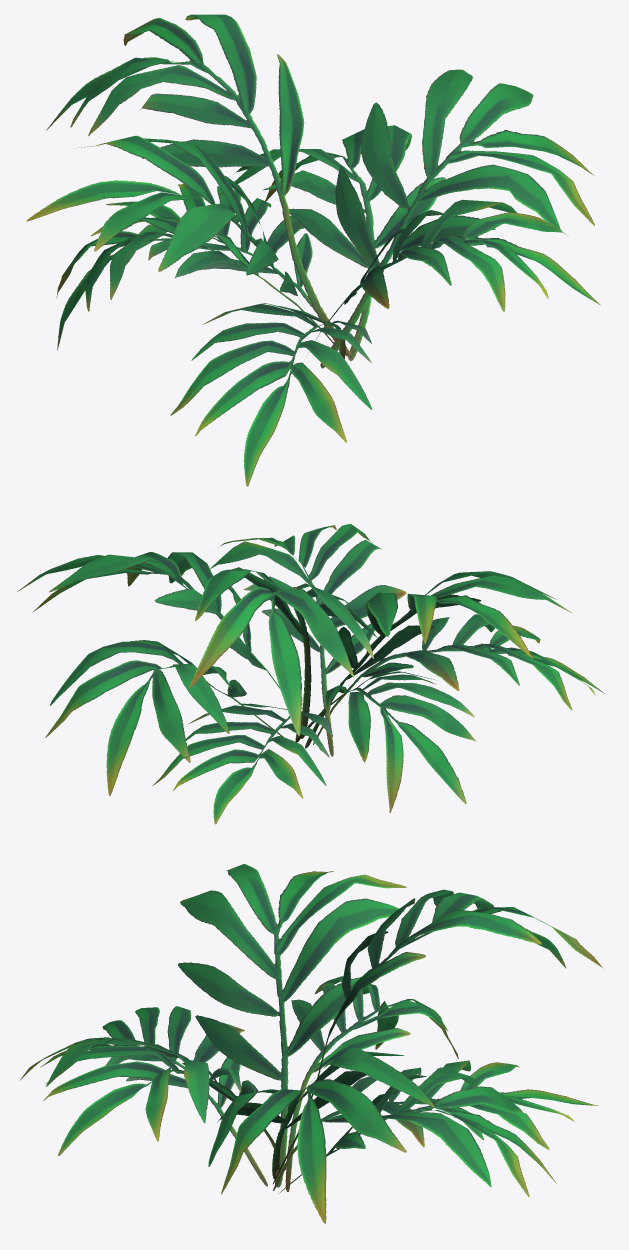
File: planta_praia.glb
The picture shows the model from 3 angles, top to bottom: view 1: azimuth 30°, elevation 25°; view 2: azimuth 150°, elevation 25°; view 3: azimuth 270°, elevation 25°; orthographic projection. The views are drawn at different scales.
Parts seen in each view (by area): view 1: planta_praia; view 2: planta_praia; view 3: planta_praia.
Part boxes in pixels (x1=…): planta_praia: x1=26, y1=14, x2=600, y2=486; planta_praia: x1=17, y1=524, x2=604, y2=824; planta_praia: x1=20, y1=864, x2=603, y2=1223.
Bounding box in the file's own units: 21.62 × 10 × 20.01.
1 material, 1 textured.
